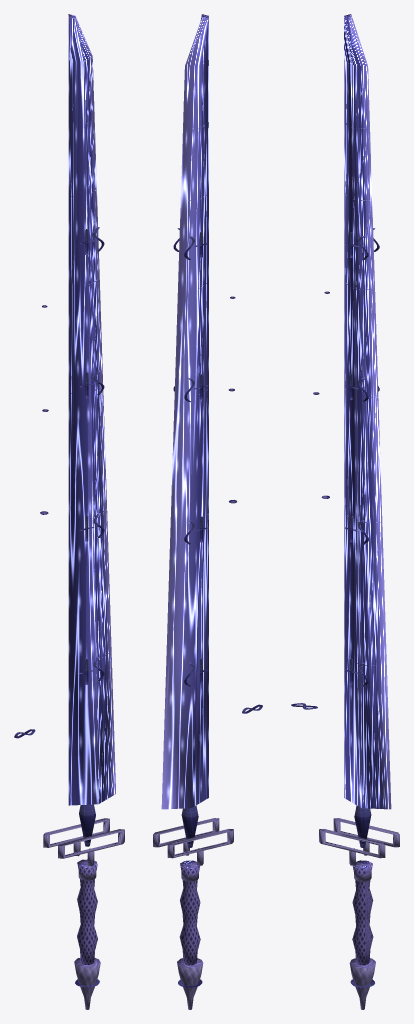
The model's file is sword_13_axiom.glb.
3 renders of one model, left to right at view 1: azimuth 30°, elevation 25°; view 2: azimuth 210°, elevation 25°; view 3: azimuth 330°, elevation 25°, orthographic.
Parts seen in each view (by area): view 1: Blade_AxiomCrystal, Grip_AxiomWrap, Guard_AxiomTablet, Glyph_MathSigils, Pommel_AxiomBead, Core_AxiomGem; view 2: Blade_AxiomCrystal, Grip_AxiomWrap, Guard_AxiomTablet, Pommel_AxiomBead, Glyph_MathSigils, Core_AxiomGem; view 3: Blade_AxiomCrystal, Grip_AxiomWrap, Guard_AxiomTablet, Pommel_AxiomBead, Glyph_MathSigils, Core_AxiomGem.
Boxes of the visible parts, left/top/right/bottom form: Blade_AxiomCrystal: left=68, top=14, right=115, bottom=805; Grip_AxiomWrap: left=77, top=859, right=97, bottom=964; Guard_AxiomTablet: left=43, top=818, right=124, bottom=866; Glyph_MathSigils: left=79, top=227, right=104, bottom=684; Pommel_AxiomBead: left=74, top=958, right=100, bottom=1009; Core_AxiomGem: left=79, top=804, right=95, bottom=846; Blade_AxiomCrystal: left=161, top=14, right=208, bottom=809; Grip_AxiomWrap: left=179, top=860, right=200, bottom=965; Guard_AxiomTablet: left=153, top=818, right=233, bottom=865; Pommel_AxiomBead: left=177, top=958, right=203, bottom=1009; Glyph_MathSigils: left=173, top=228, right=208, bottom=686; Core_AxiomGem: left=181, top=805, right=198, bottom=847; Blade_AxiomCrystal: left=344, top=14, right=391, bottom=809; Grip_AxiomWrap: left=352, top=860, right=373, bottom=965; Guard_AxiomTablet: left=319, top=818, right=399, bottom=865; Pommel_AxiomBead: left=349, top=958, right=375, bottom=1009; Glyph_MathSigils: left=344, top=228, right=379, bottom=686; Core_AxiomGem: left=354, top=805, right=371, bottom=847.
Bounding box in the file's own units: 0.28 × 2.6 × 0.0865.
Materials: 1 (1 with a texture image).
